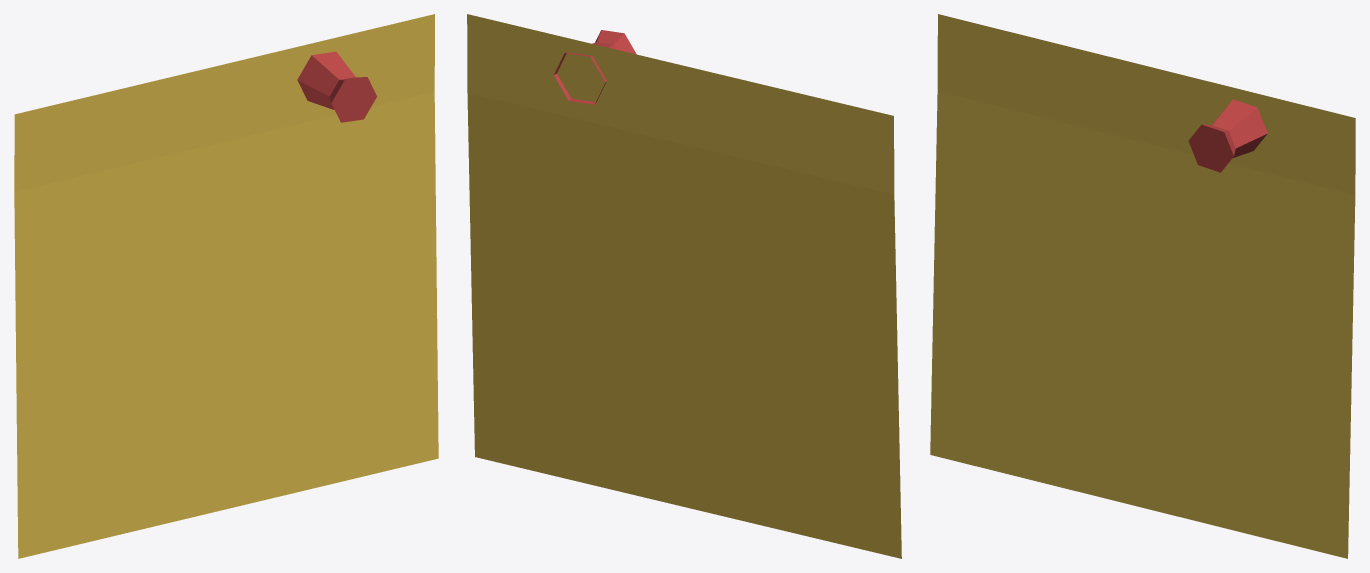
File: Post-it.glb
3 views of the same model, side by side, from view 1: azimuth 30°, elevation 25°; view 2: azimuth 150°, elevation 25°; view 3: azimuth 330°, elevation 25° (orthographic). The views are drawn at different scales.
Visible parts, largest first — view 1: Wall_corkboard_with_post_it_notes; view 2: Wall_corkboard_with_post_it_notes; view 3: Wall_corkboard_with_post_it_notes.
Part boxes in pixels (x1,y1,x2,y2): Wall_corkboard_with_post_it_notes: [14, 14, 438, 558]; Wall_corkboard_with_post_it_notes: [467, 14, 901, 558]; Wall_corkboard_with_post_it_notes: [930, 14, 1355, 558].
Bounding box in the file's own units: 0.0772 × 0.0772 × 0.011.
1 material, 1 textured.
